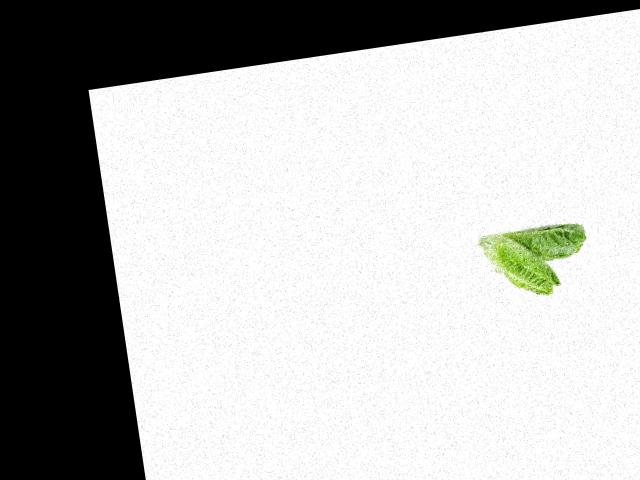lettuce: (498, 213, 596, 269)
